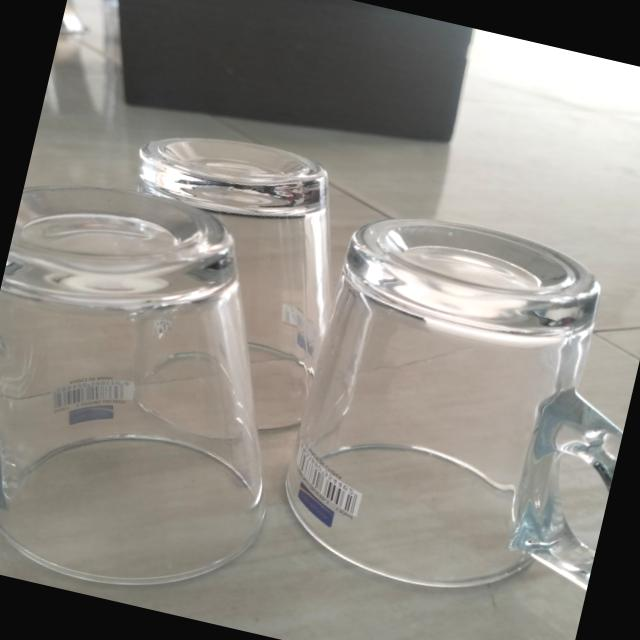glass-VX4N: (264, 195, 640, 623), (0, 159, 322, 619), (60, 110, 348, 460)
